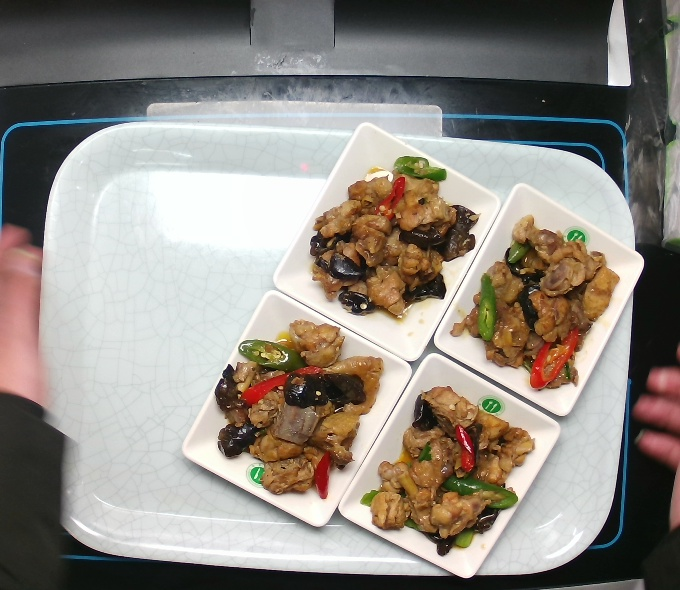wcq-LaZiJi: (195, 316, 388, 501), (447, 212, 634, 392), (357, 384, 545, 559), (298, 152, 490, 318)
